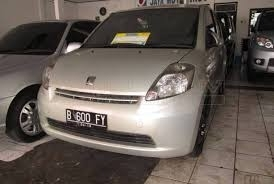plate: (66, 109, 107, 132)
